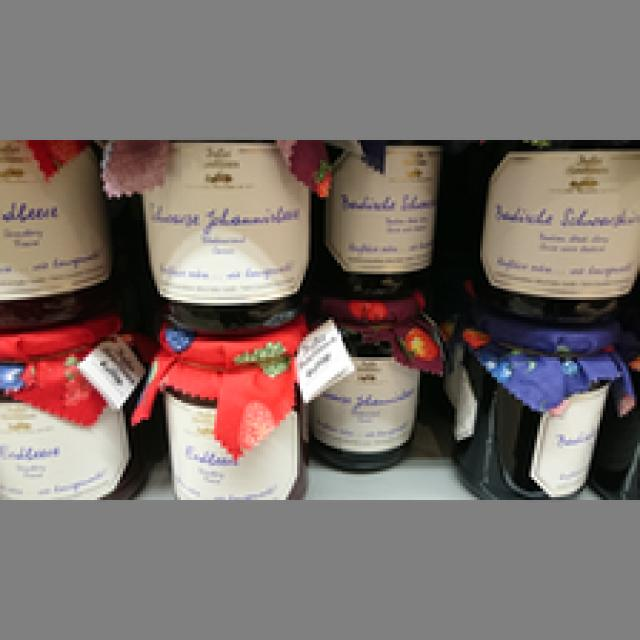groceries: (132, 137, 314, 329), (443, 314, 620, 500), (466, 137, 634, 317), (146, 314, 311, 497), (0, 311, 154, 497), (0, 137, 131, 334), (303, 288, 440, 472), (314, 137, 443, 289)
